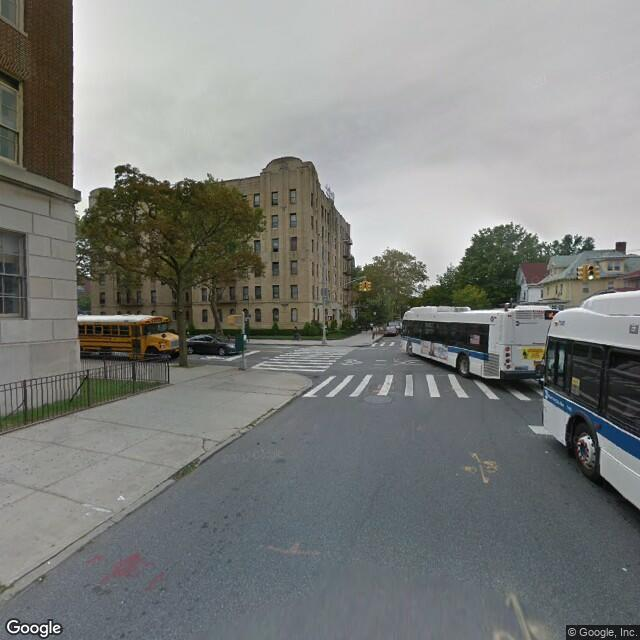litter: (543, 446, 548, 455)
